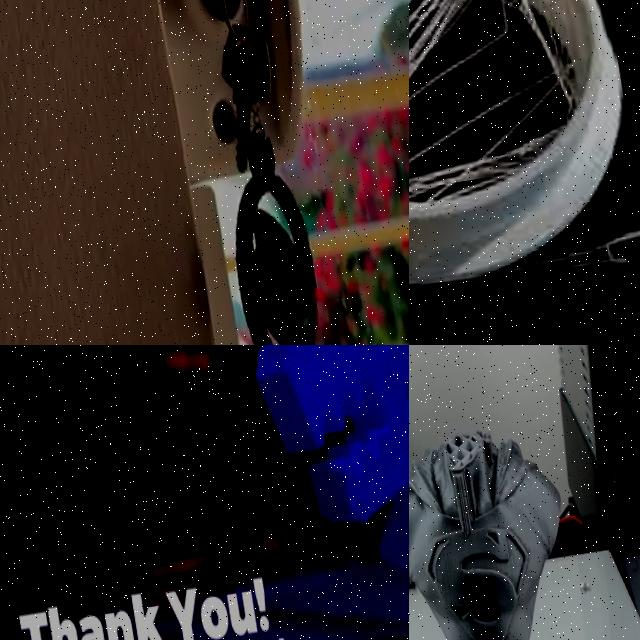spaghetti: (409, 0, 626, 250), (507, 219, 640, 293)
